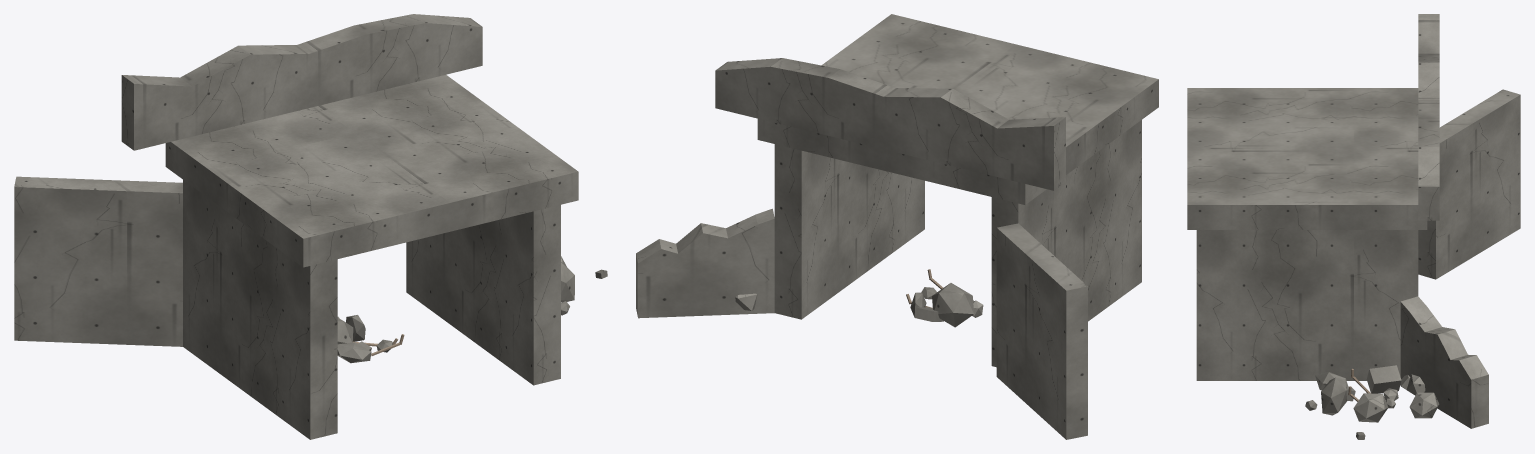
File: Underpass_Tunnel.fbx
3 renders of one model, left to right at view 1: azimuth 30°, elevation 25°; view 2: azimuth 150°, elevation 25°; view 3: azimuth 270°, elevation 25°, orthographic. The views are drawn at different scales.
Visible parts, largest first — view 1: Underpass_Tunnel; view 2: Underpass_Tunnel; view 3: Underpass_Tunnel.
Boxes of the visible parts, x1=… form: Underpass_Tunnel: x1=14, y1=14, x2=607, y2=439; Underpass_Tunnel: x1=636, y1=14, x2=1158, y2=439; Underpass_Tunnel: x1=1187, y1=14, x2=1520, y2=439.
Size of the model in its own units: 8.34 by 4.38 by 5.41.
Materials: 2 (1 with a texture image).
